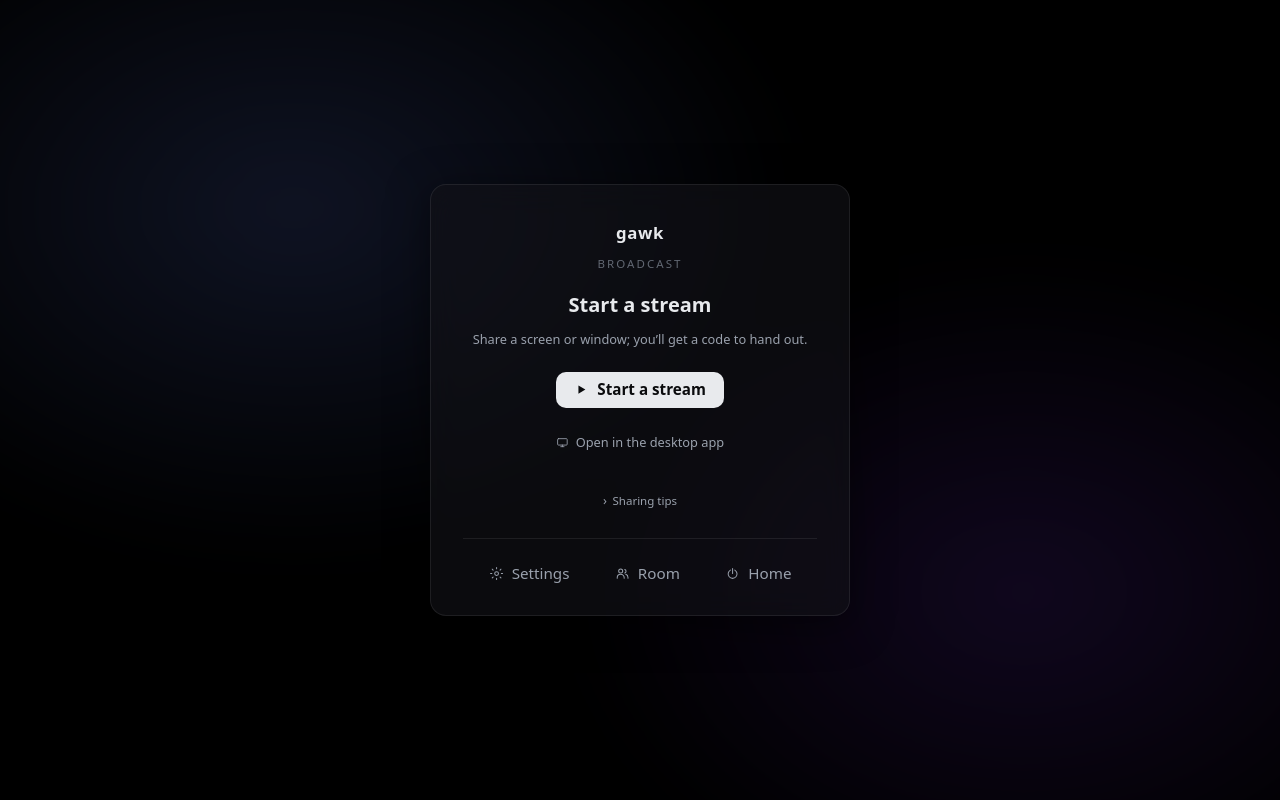
Test: the Opening modal (D4, D6, G7) › closes on Escape
The width and height of the screenshot is (1280, 800).
Click the link "Open in the desktop app" at (640, 442), box [556,433,724,451]
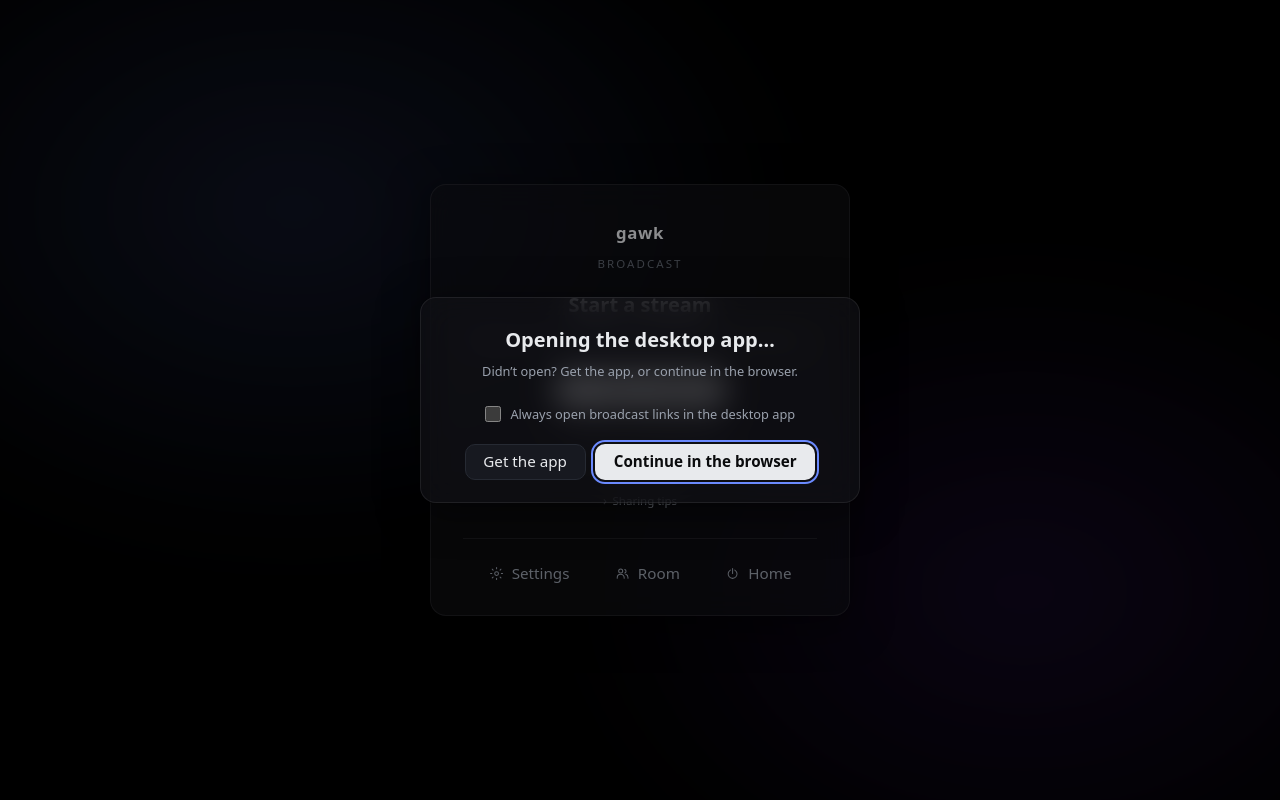
Press Escape in the dialog, box [420,297,860,503]
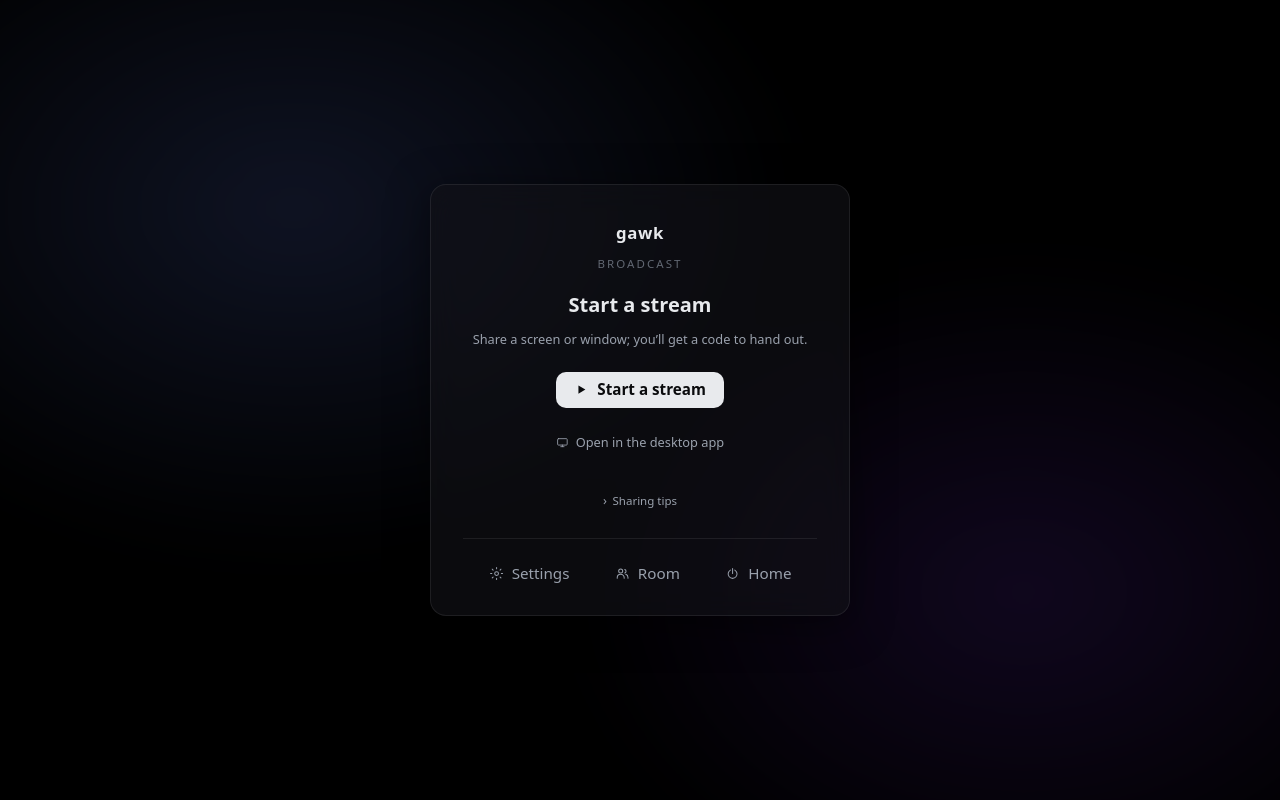
Now the dialog with test id "desktop-handoff-modal" is gone
